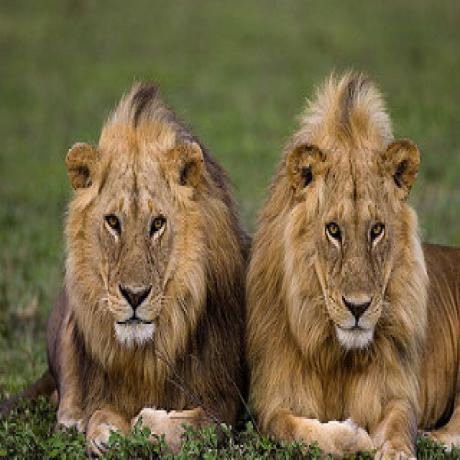Lion: (248, 73, 460, 460), (47, 79, 246, 437)
